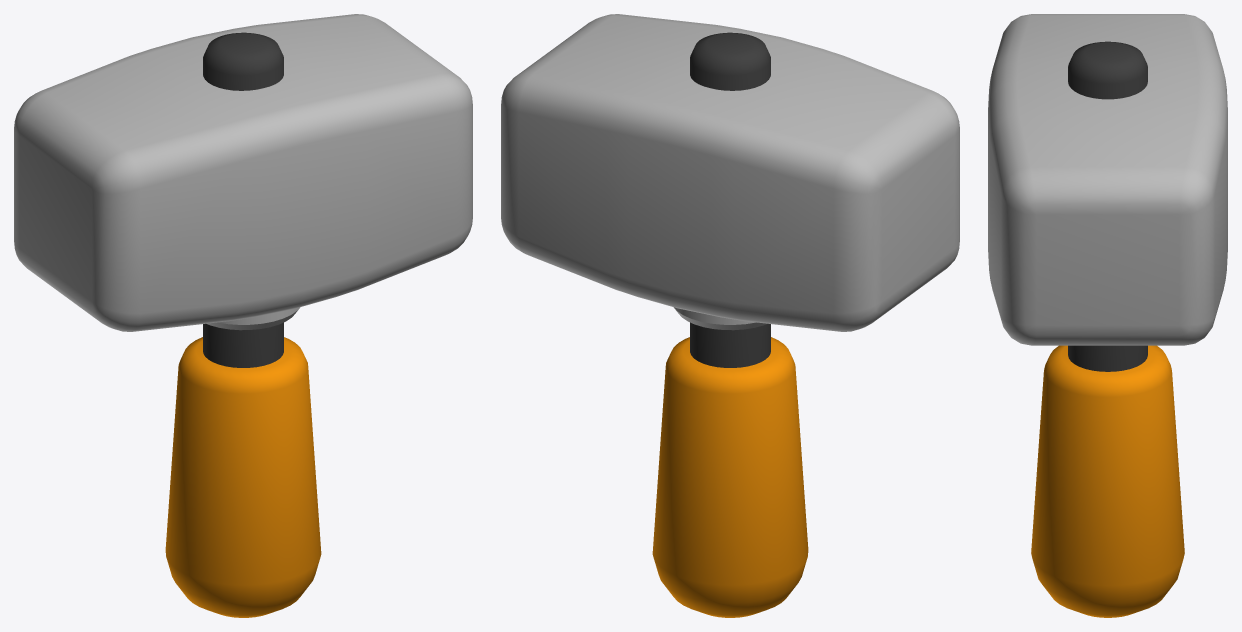
Rendered from POW_hammer.fbx.
3 renders of one model, left to right at view 1: azimuth 30°, elevation 25°; view 2: azimuth 150°, elevation 25°; view 3: azimuth 270°, elevation 25°, orthographic.
Visible parts, largest first — view 1: Cube.020, Cylinder.021, Cylinder.019, Cylinder.020; view 2: Cube.020, Cylinder.021, Cylinder.019, Cylinder.020; view 3: Cube.020, Cylinder.021, Cylinder.019.
Part boxes in pixels (x1=…): Cube.020: x1=14, y1=14, x2=472, y2=331; Cylinder.021: x1=165, y1=337, x2=321, y2=617; Cylinder.019: x1=203, y1=32, x2=283, y2=367; Cylinder.020: x1=206, y1=307, x2=300, y2=330; Cube.020: x1=501, y1=14, x2=959, y2=331; Cylinder.021: x1=652, y1=337, x2=808, y2=617; Cylinder.019: x1=690, y1=32, x2=770, y2=367; Cylinder.020: x1=673, y1=307, x2=767, y2=330; Cube.020: x1=988, y1=14, x2=1227, y2=345; Cylinder.021: x1=1031, y1=345, x2=1184, y2=617; Cylinder.019: x1=1068, y1=41, x2=1147, y2=371.
Size of the model in its own units: 355 by 507 by 199.
